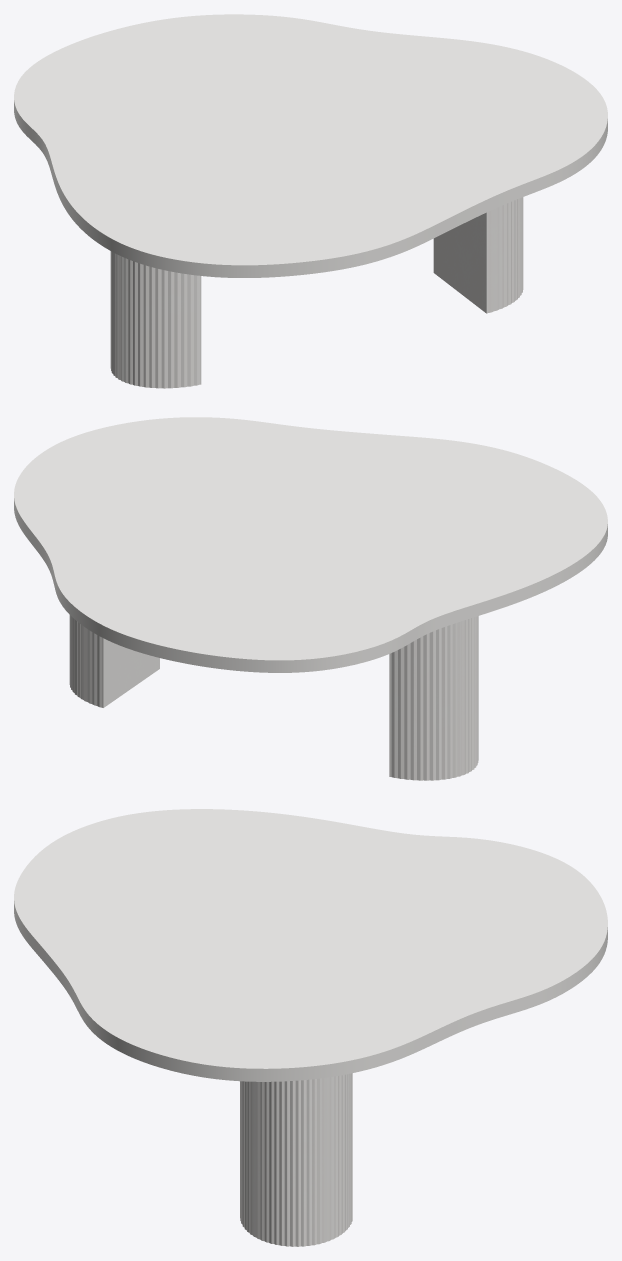
The model's file is purewhite_topone_standard_flute.glb.
The picture shows the model from 3 angles, top to bottom: view 1: azimuth 30°, elevation 25°; view 2: azimuth 150°, elevation 25°; view 3: azimuth 270°, elevation 25°; orthographic projection. The views are drawn at different scales.
Visible parts, largest first — view 1: standard_topone, flute; view 2: standard_topone, flute; view 3: standard_topone, flute.
Part boxes in pixels (box(x1,y1,x2,y2)): standard_topone: box(14, 14, 607, 277); flute: box(110, 197, 523, 388); standard_topone: box(14, 417, 607, 672); flute: box(69, 615, 478, 780); standard_topone: box(14, 809, 607, 1081); flute: box(240, 1073, 352, 1246).
Bounding box in the file's own units: 6.83 × 2.5 × 6.6.
1 material, 1 textured.
